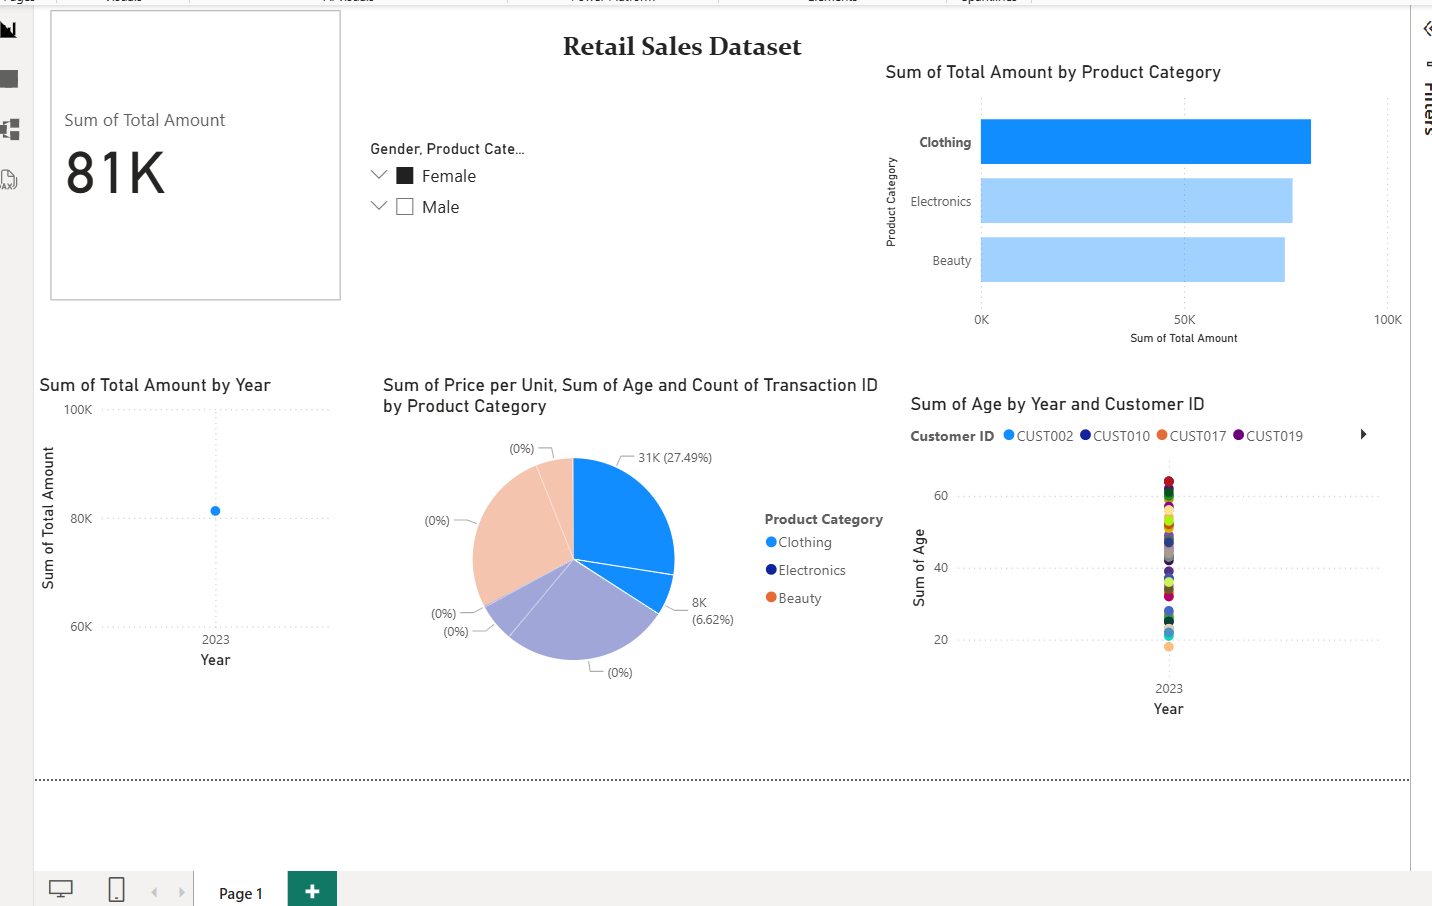

This screenshot's page, from the dashboard's own definition file:
{"tool":"powerbi","page":{"name":"Page 1","canvas":[1280,720],"ordinal":0},"visuals":[{"type":"cardVisual","fields":{"Data":["Sum(retail_sales_dataset.Total Amount)"]},"box":[10,0,280,280],"z":0},{"type":"clusteredBarChart","fields":{"Category":["retail_sales_dataset.Product Category"],"Y":["Sum(retail_sales_dataset.Total Amount)"]},"box":[787.2,52.3,490.7,268.6],"z":2},{"type":"lineChart","fields":{"Y":["Sum(retail_sales_dataset.Total Amount)"],"Category":["retail_sales_dataset.Date.Variation.Date Hierarchy.Year","retail_sales_dataset.Date.Variation.Date Hierarchy.Quarter","retail_sales_dataset.Date.Variation.Date Hierarchy.Month","retail_sales_dataset.Date.Variation.Date Hierarchy.Day"]},"box":[0,343,279.1,279.1],"z":3},{"type":"slicer","fields":{"Values":["retail_sales_dataset.Gender","retail_sales_dataset.Product Category"]},"box":[300,119.8,182.6,160.5],"z":4},{"type":"pieChart","fields":{"Y":["Sum(retail_sales_dataset.Price per Unit)","Sum(retail_sales_dataset.Age)","CountNonNull(retail_sales_dataset.Transaction ID)"],"Category":["retail_sales_dataset.Product Category"]},"box":[319.8,343,490.7,307],"z":5},{"type":"areaChart","fields":{"Category":["retail_sales_dataset.Date.Variation.Date Hierarchy.Year","retail_sales_dataset.Date.Variation.Date Hierarchy.Quarter","retail_sales_dataset.Date.Variation.Date Hierarchy.Month","retail_sales_dataset.Date.Variation.Date Hierarchy.Day"],"Y":["Sum(retail_sales_dataset.Age)"],"Series":["retail_sales_dataset.Customer ID"]},"box":[810,360,446,307],"z":6},{"type":"textbox","box":[462.8,18.6,291.9,48.8],"z":7}]}

Visuals, with their boxes on the page's 1280x720 design canvas (x1, y1, x2, y2). These are canvas units, not pixel positions in the 1432x906 screenshot, which may show the page scaled, cropped or inside an application window:
cardVisual - Sum(retail_sales_dataset.Total Amount): <box>10,0,290,280</box>
clusteredBarChart - retail_sales_dataset.Product Category x Sum(retail_sales_dataset.Total Amount): <box>787,52,1278,321</box>
lineChart - Sum(retail_sales_dataset.Total Amount) x retail_sales_dataset.Date.Variation.Date Hierarchy.Year: <box>0,343,279,622</box>
slicer - retail_sales_dataset.Gender x retail_sales_dataset.Product Category: <box>300,120,483,280</box>
pieChart - Sum(retail_sales_dataset.Price per Unit) x Sum(retail_sales_dataset.Age): <box>320,343,810,650</box>
areaChart - retail_sales_dataset.Date.Variation.Date Hierarchy.Year x retail_sales_dataset.Date.Variation.Date Hierarchy.Quarter: <box>810,360,1256,667</box>
textbox: <box>463,19,755,67</box>
